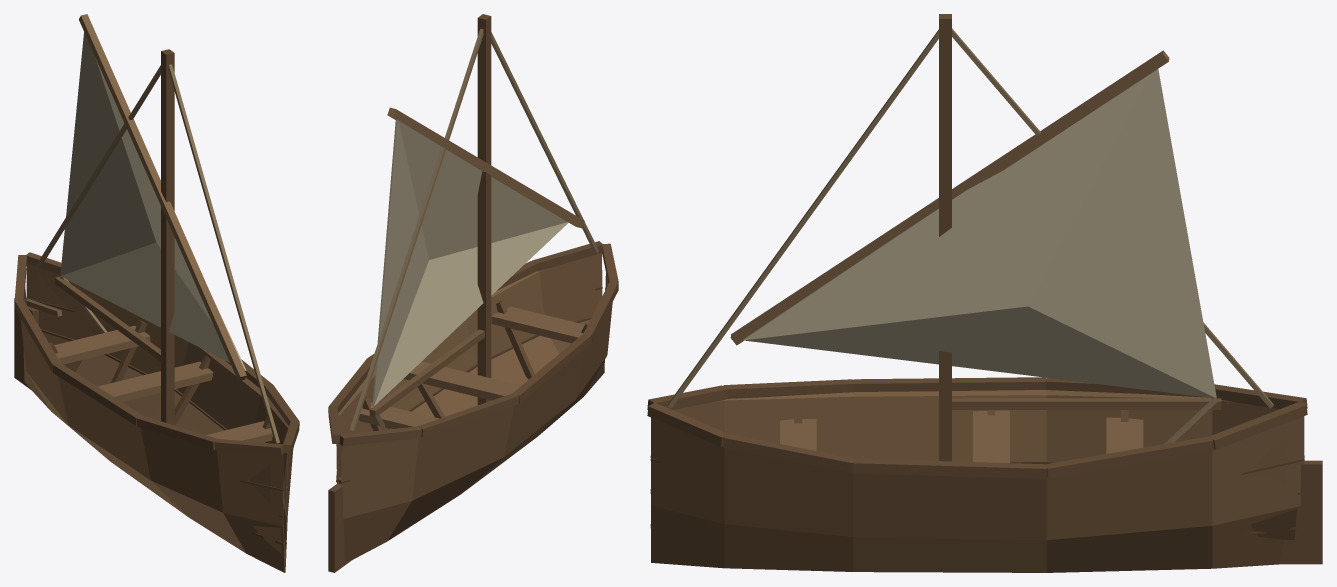
Rendered from moored_fishing_boat.glb.
The picture shows the model from 3 angles, left to right: view 1: azimuth 30°, elevation 25°; view 2: azimuth 150°, elevation 25°; view 3: azimuth 270°, elevation 25°; orthographic projection. The views are drawn at different scales.
Visible parts, largest first — view 1: moored_fishing_boat_Harbor oak plank 1, moored_fishing_boat_Harbor flax sail, moored_fishing_boat_Harbor oak plank 0, moored_fishing_boat_Harbor oak plank 2, moored_fishing_boat_Harbor hemp lashings, moored_fishing_boat_Harbor timber end grain; view 2: moored_fishing_boat_Harbor oak plank 1, moored_fishing_boat_Harbor flax sail, moored_fishing_boat_Harbor oak plank 0, moored_fishing_boat_Harbor oak plank 2, moored_fishing_boat_Harbor hemp lashings, moored_fishing_boat_Harbor timber end grain; view 3: moored_fishing_boat_Harbor oak plank 1, moored_fishing_boat_Harbor flax sail, moored_fishing_boat_Harbor oak plank 0, moored_fishing_boat_Harbor oak plank 2, moored_fishing_boat_Harbor hemp lashings.
Boxes of the visible parts, <box> form: moored_fishing_boat_Harbor oak plank 1: <box>20,264,293,572</box>; moored_fishing_boat_Harbor flax sail: <box>60,32,246,370</box>; moored_fishing_boat_Harbor oak plank 0: <box>14,49,299,455</box>; moored_fishing_boat_Harbor oak plank 2: <box>26,14,272,442</box>; moored_fishing_boat_Harbor hemp lashings: <box>35,64,279,443</box>; moored_fishing_boat_Harbor timber end grain: <box>26,298,288,545</box>; moored_fishing_boat_Harbor oak plank 1: <box>336,253,612,561</box>; moored_fishing_boat_Harbor flax sail: <box>372,119,568,406</box>; moored_fishing_boat_Harbor oak plank 0: <box>328,14,618,572</box>; moored_fishing_boat_Harbor oak plank 2: <box>338,107,584,483</box>; moored_fishing_boat_Harbor hemp lashings: <box>349,28,598,431</box>; moored_fishing_boat_Harbor timber end grain: <box>336,287,605,483</box>; moored_fishing_boat_Harbor oak plank 1: <box>651,390,1304,572</box>; moored_fishing_boat_Harbor flax sail: <box>743,69,1216,398</box>; moored_fishing_boat_Harbor oak plank 0: <box>647,14,1322,564</box>; moored_fishing_boat_Harbor oak plank 2: <box>730,50,1169,462</box>; moored_fishing_boat_Harbor hemp lashings: <box>667,28,1273,443</box>.
Size of the model in its own units: 2.36 by 6.55 by 7.34.
